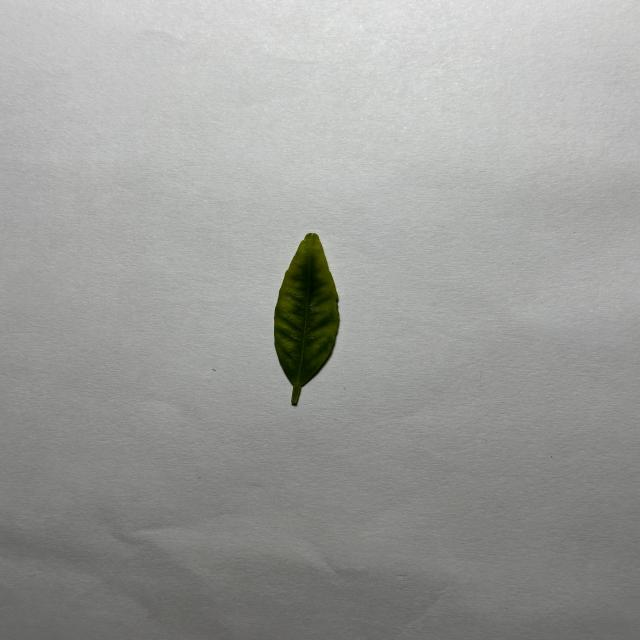greening: (274, 233, 339, 404)
